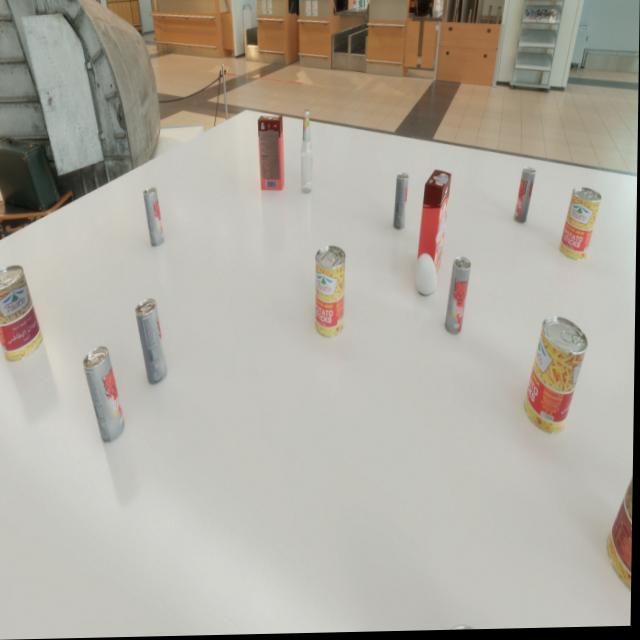Bottle: (301, 111, 314, 195)
HelloPanda: (417, 172, 452, 286), (257, 116, 286, 192)
Potato_sticks: (525, 318, 589, 437), (0, 264, 45, 361), (560, 189, 602, 264), (315, 247, 347, 339)
Rita_zero_sugar: (83, 346, 127, 444), (136, 299, 169, 386), (446, 259, 472, 337), (143, 188, 166, 248), (515, 169, 537, 226), (394, 174, 409, 232)
Salt: (416, 255, 438, 297)
